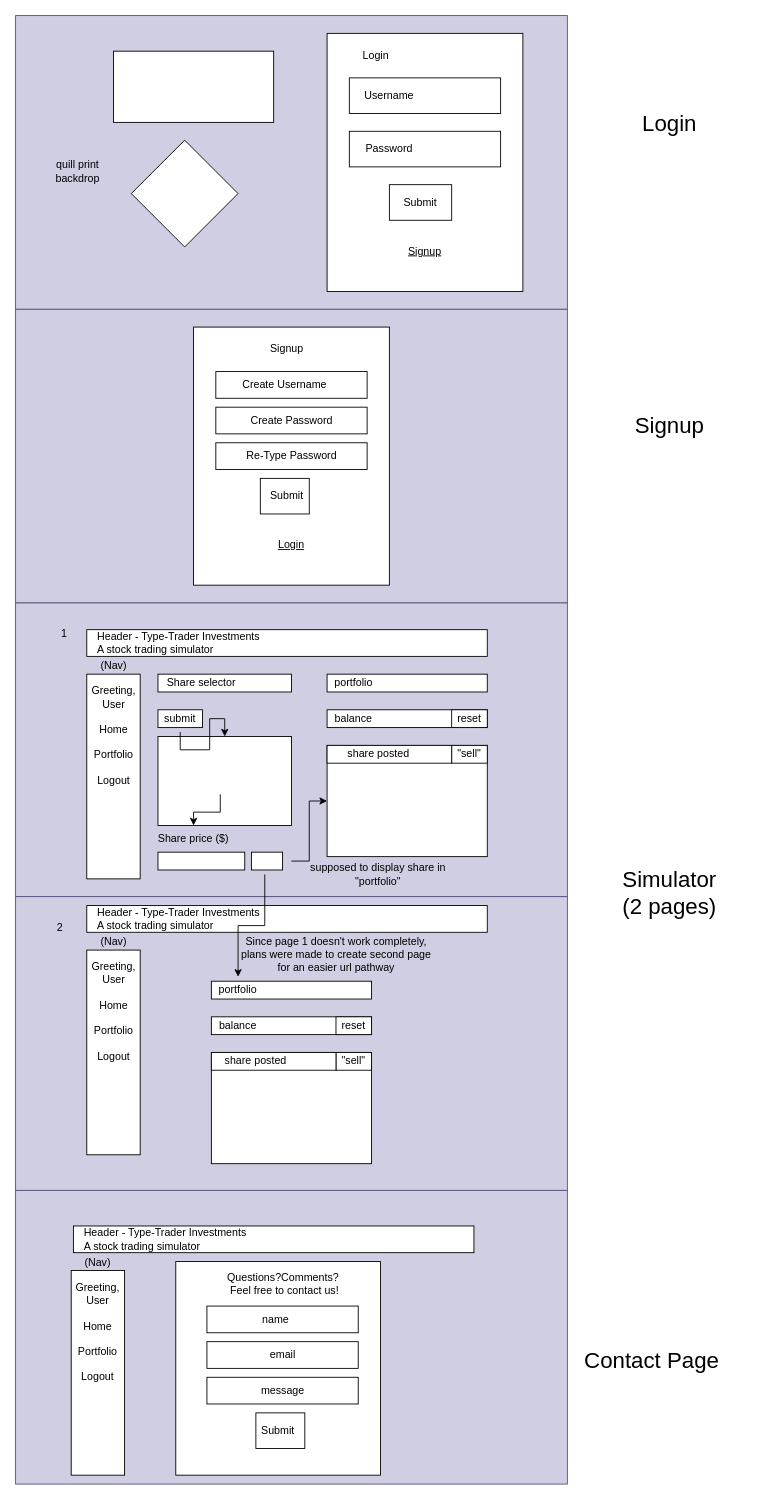
This 779x1500 diagram has some shape labels left out. Here are the shapes that lost their labels. From the top down, the centre of each, then its label:
point 193,86: Type-Trader Investments A stock trading simulator
point 184,193: image logo
point 224,780: Generates Stock Graph and
point 201,860: Amount selector
point 267,860: "buy"
